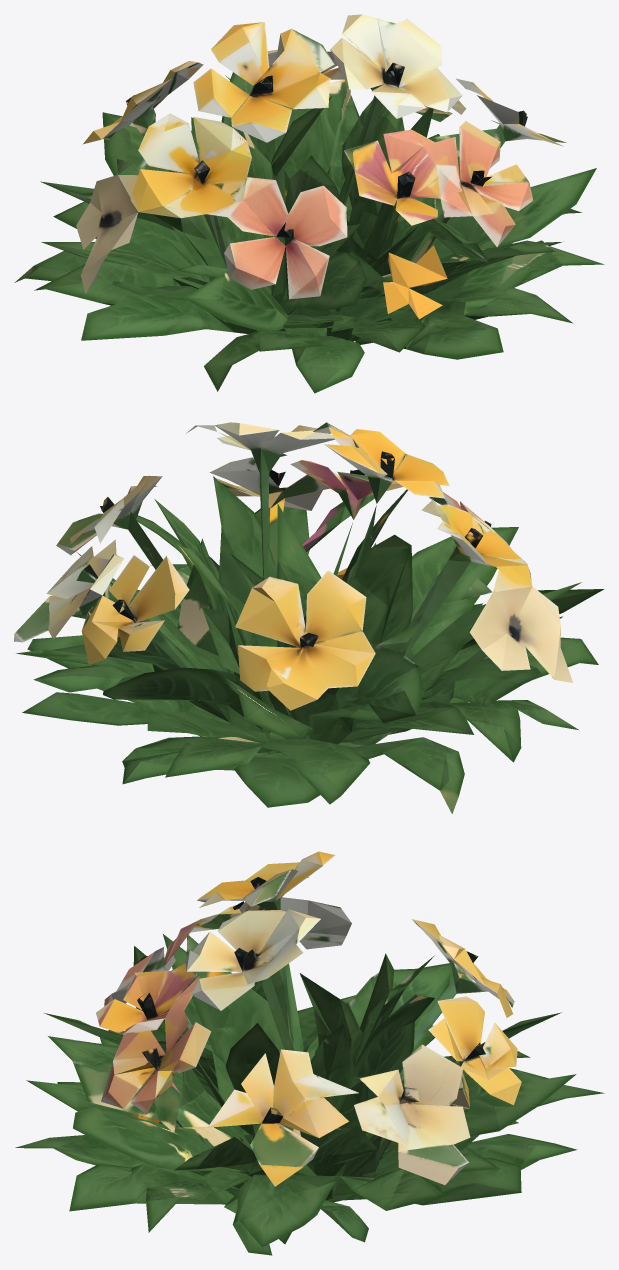
File: flower_patch.glb
3 renders of one model, top to bottom at view 1: azimuth 30°, elevation 25°; view 2: azimuth 150°, elevation 25°; view 3: azimuth 270°, elevation 25°, orthographic. The views are drawn at different scales.
Visible parts, largest first — view 1: geometry_0; view 2: geometry_0; view 3: geometry_0.
Boxes of the visible parts, <box> form: geometry_0: <box>14,14,604,393</box>; geometry_0: <box>14,422,604,813</box>; geometry_0: <box>15,851,604,1255</box>.
Bounding box in the file's own units: 1.48 × 0.8399 × 1.5.
Materials: 1 (1 with a texture image).
